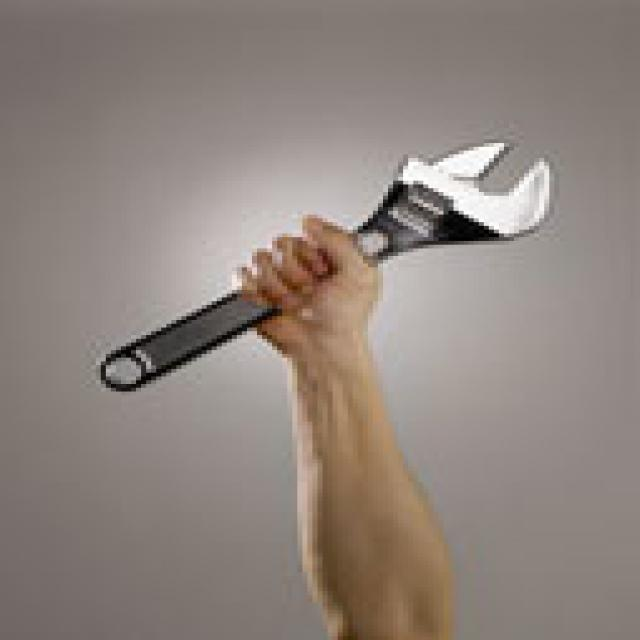wrench: (262, 90, 618, 278)
